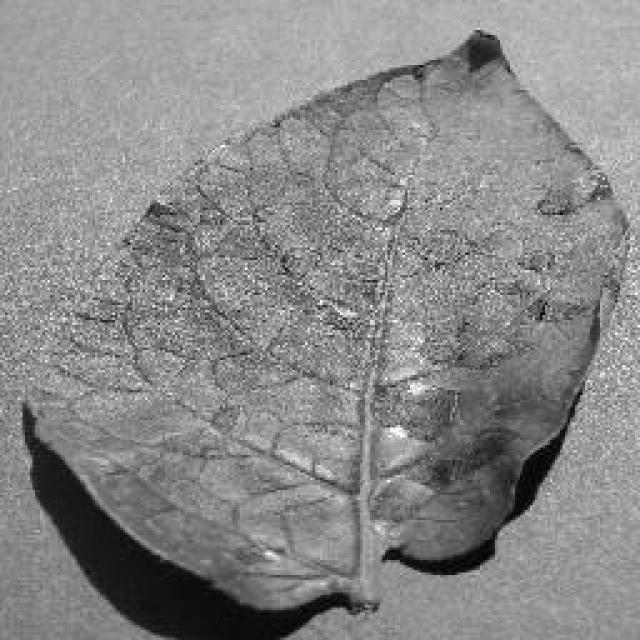Potato: (20, 25, 630, 615)
